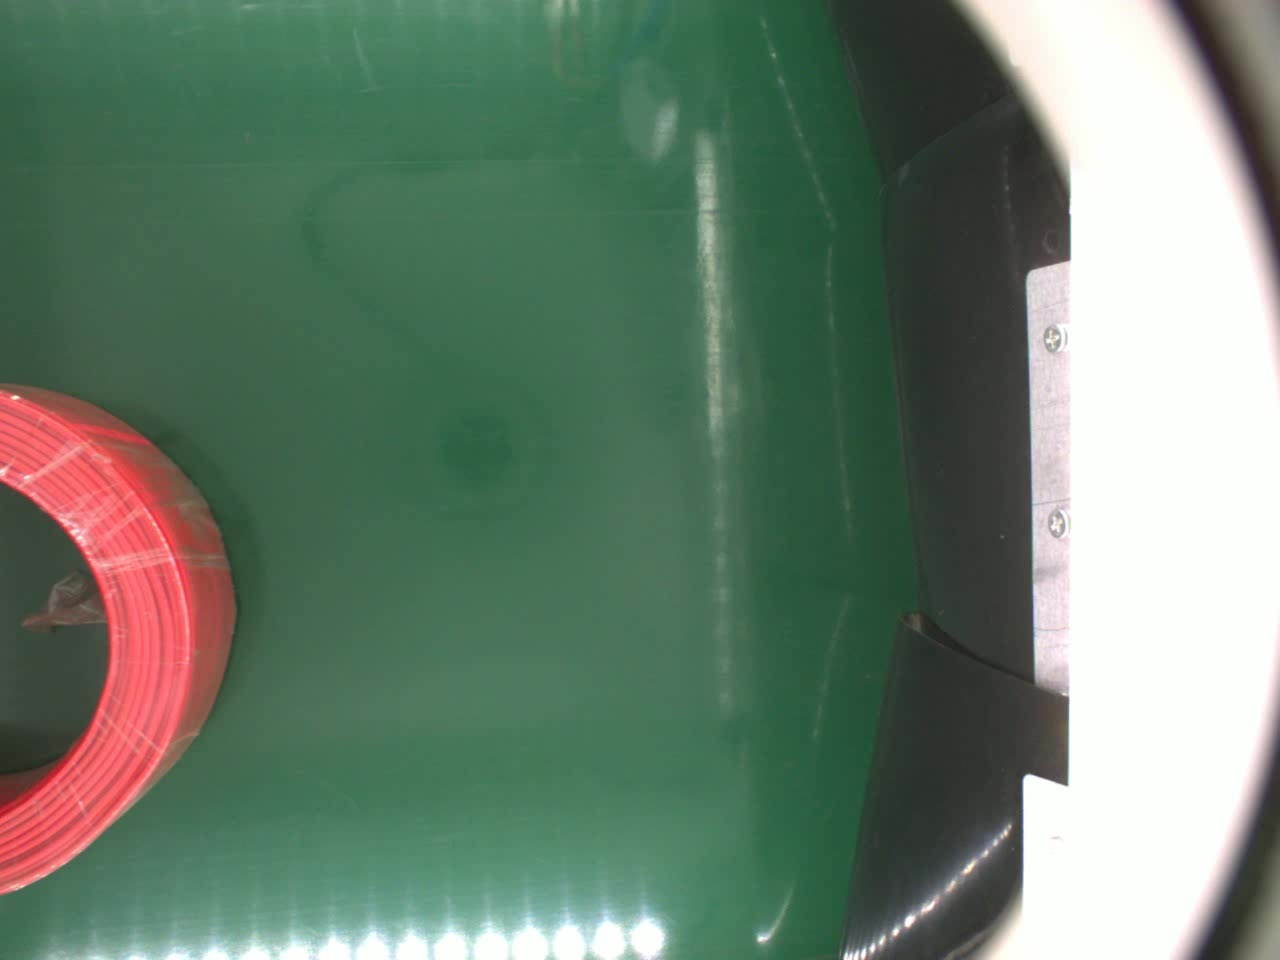red: (0, 382, 242, 897)
